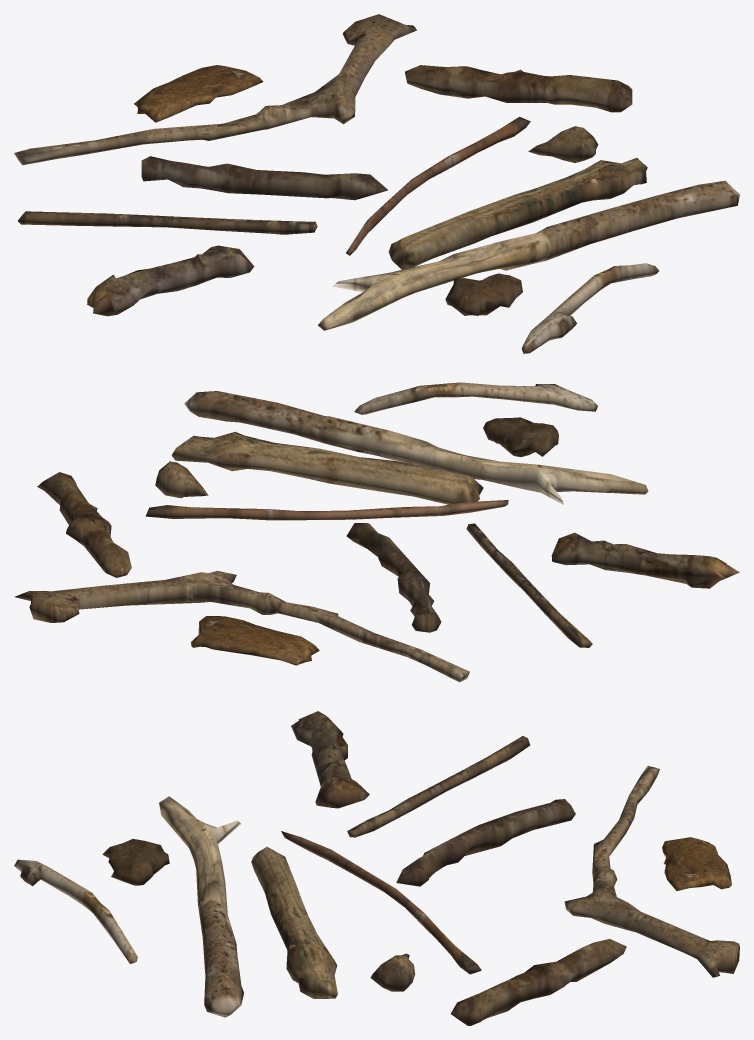
File: Debris Woods A.fbx
The picture shows the model from 3 angles, top to bottom: view 1: azimuth 30°, elevation 25°; view 2: azimuth 150°, elevation 25°; view 3: azimuth 270°, elevation 25°; orthographic projection. The views are drawn at different scales.
Visible parts, largest first — view 1: Debris_Wood_01, Debris_Wood_02, Debris_Wood_03, Debris_Wood_04, Debris_Wood_06, Debris_Wood_05, Debris_Wood_10, Debris_Wood_07, Debris_Wood_08, Debris_Wood_09, Debris_Wood_11, Debris_Wood_12; view 2: Debris_Wood_01, Debris_Wood_03, Debris_Wood_02, Debris_Wood_05, Debris_Wood_09, Debris_Wood_08, Debris_Wood_04, Debris_Wood_07, Debris_Wood_06, Debris_Wood_11, Debris_Wood_10, Debris_Wood_12; view 3: Debris_Wood_01, Debris_Wood_02, Debris_Wood_03, Debris_Wood_04, Debris_Wood_06, Debris_Wood_05, Debris_Wood_07, Debris_Wood_10, Debris_Wood_09, Debris_Wood_08, Debris_Wood_11, Debris_Wood_12.
Part boxes in pixels (box(x1,y1,x2,y2)): Debris_Wood_01: box(317, 180, 739, 330); Debris_Wood_02: box(14, 14, 416, 165); Debris_Wood_03: box(388, 158, 647, 269); Debris_Wood_04: box(405, 65, 632, 112); Debris_Wood_06: box(141, 156, 387, 200); Debris_Wood_05: box(87, 245, 254, 316); Debris_Wood_10: box(18, 211, 317, 234); Debris_Wood_07: box(134, 65, 263, 122); Debris_Wood_08: box(521, 263, 659, 353); Debris_Wood_09: box(346, 116, 530, 255); Debris_Wood_11: box(445, 273, 522, 315); Debris_Wood_12: box(528, 126, 598, 162); Debris_Wood_01: box(184, 391, 648, 504); Debris_Wood_03: box(171, 431, 483, 504); Debris_Wood_02: box(14, 570, 469, 682); Debris_Wood_05: box(551, 532, 739, 588); Debris_Wood_09: box(145, 500, 508, 520); Debris_Wood_08: box(354, 382, 597, 414); Debris_Wood_04: box(37, 472, 131, 577); Debris_Wood_07: box(190, 616, 319, 665); Debris_Wood_06: box(346, 523, 441, 632); Debris_Wood_11: box(483, 417, 558, 456); Debris_Wood_10: box(466, 523, 592, 647); Debris_Wood_12: box(155, 461, 208, 498); Debris_Wood_01: box(159, 796, 243, 1017); Debris_Wood_02: box(564, 765, 739, 977); Debris_Wood_03: box(251, 846, 337, 998); Debris_Wood_04: box(450, 939, 626, 1025); Debris_Wood_06: box(396, 799, 575, 886); Debris_Wood_05: box(291, 711, 369, 808); Debris_Wood_07: box(662, 837, 731, 890); Debris_Wood_10: box(347, 736, 530, 837); Debris_Wood_09: box(281, 831, 481, 974); Debris_Wood_08: box(14, 859, 137, 963); Debris_Wood_11: box(102, 839, 169, 885); Debris_Wood_12: box(370, 953, 415, 991).
Size of the model in its own units: 20.14 by 1.2 by 20.32.
